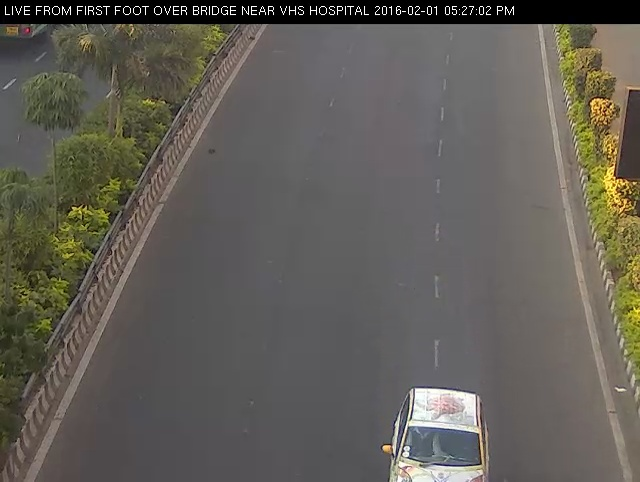Car: (371, 379, 506, 481)
